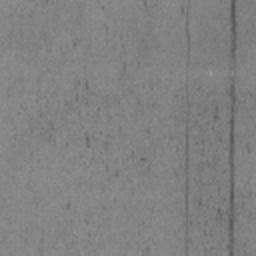Scratches: (180, 0, 189, 256), (228, 0, 236, 256)
